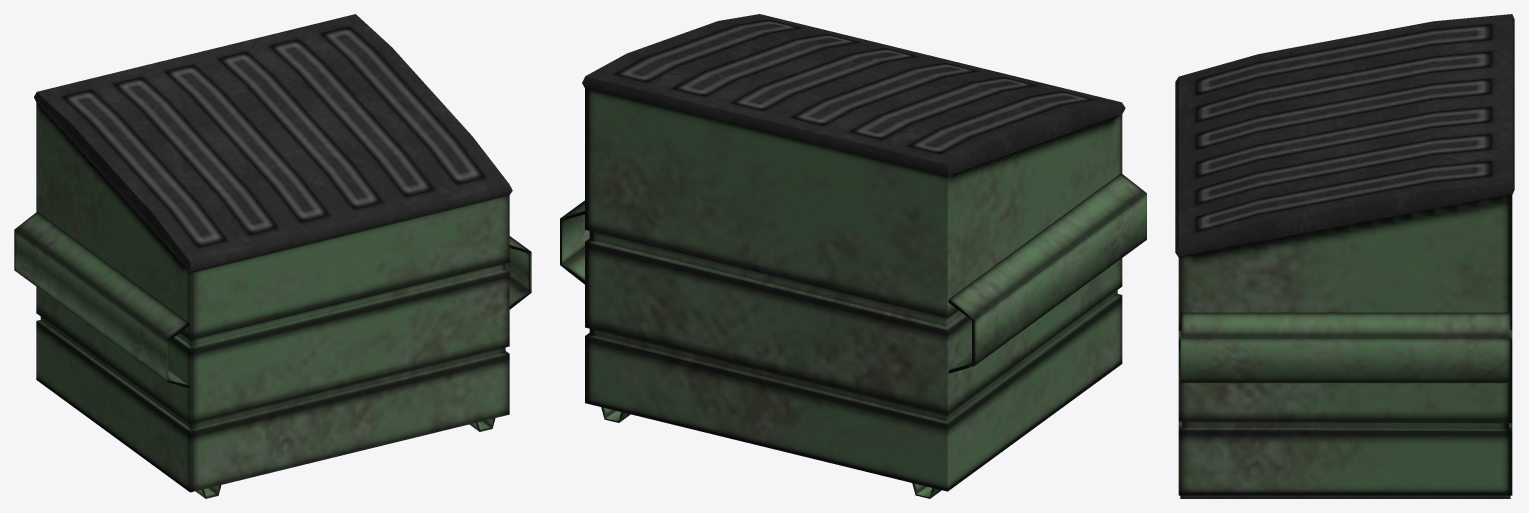
Rendered from Trashcans_mesh.fbx.
The picture shows the model from 3 angles, left to right: view 1: azimuth 30°, elevation 25°; view 2: azimuth 150°, elevation 25°; view 3: azimuth 270°, elevation 25°; orthographic projection. The views are drawn at different scales.
Visible parts, largest first — view 1: dumpster; view 2: dumpster; view 3: dumpster.
Boxes of the visible parts, <box> form: dumpster: <box>14,14,531,498</box>; dumpster: <box>560,14,1146,498</box>; dumpster: <box>1175,14,1514,498</box>.
Bounding box in the file's own units: 255 × 206 × 189.
